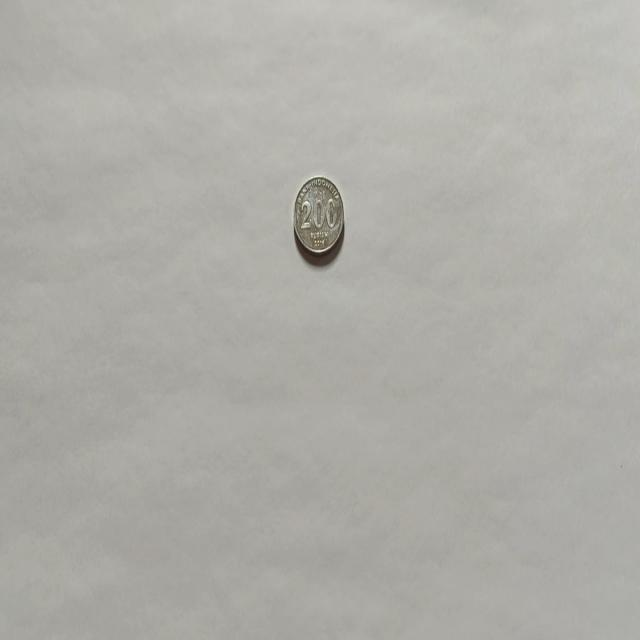dua ratus rupiah: (292, 174, 344, 258)
